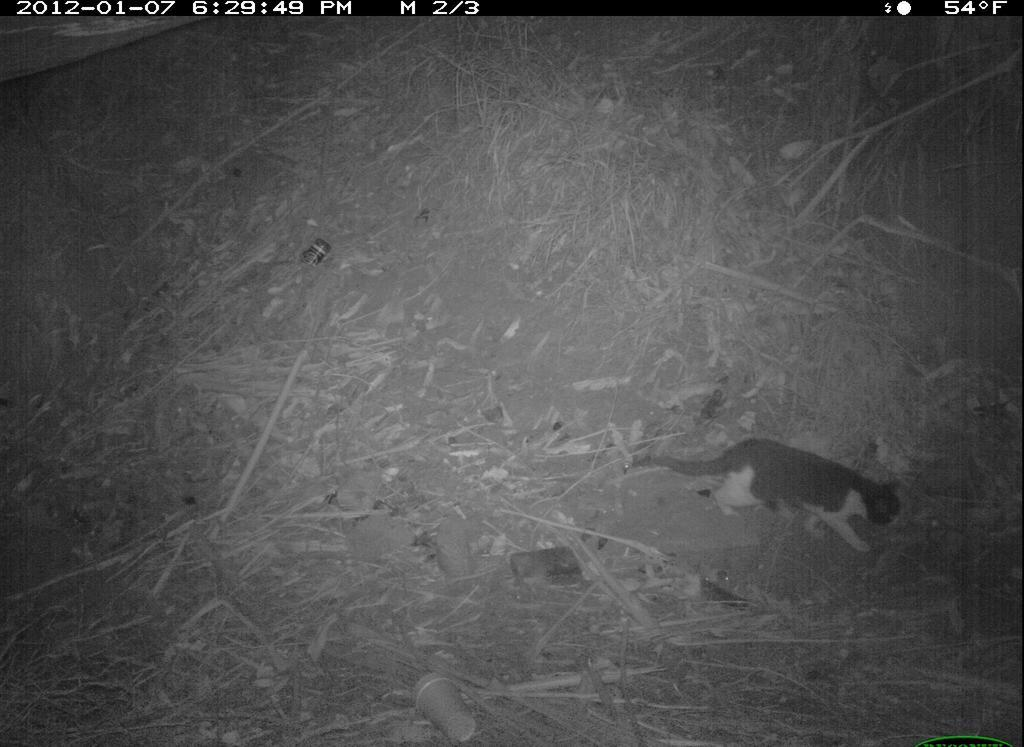cat: (621, 419, 918, 567)
